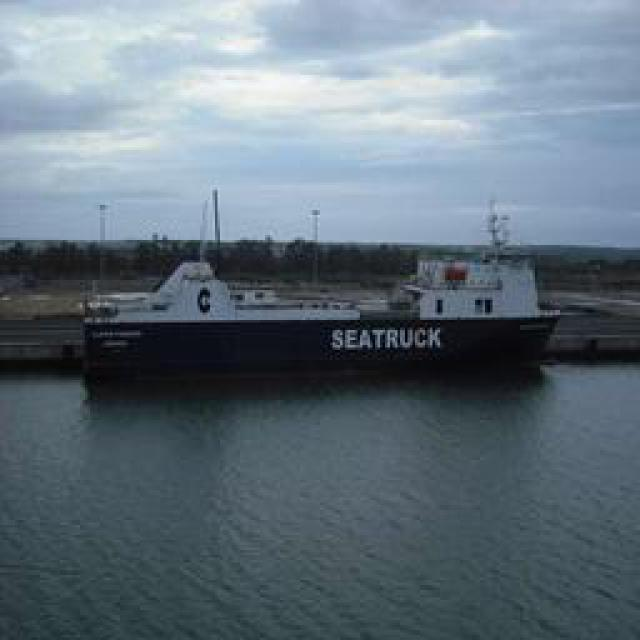Ship: (90, 246, 558, 381)
